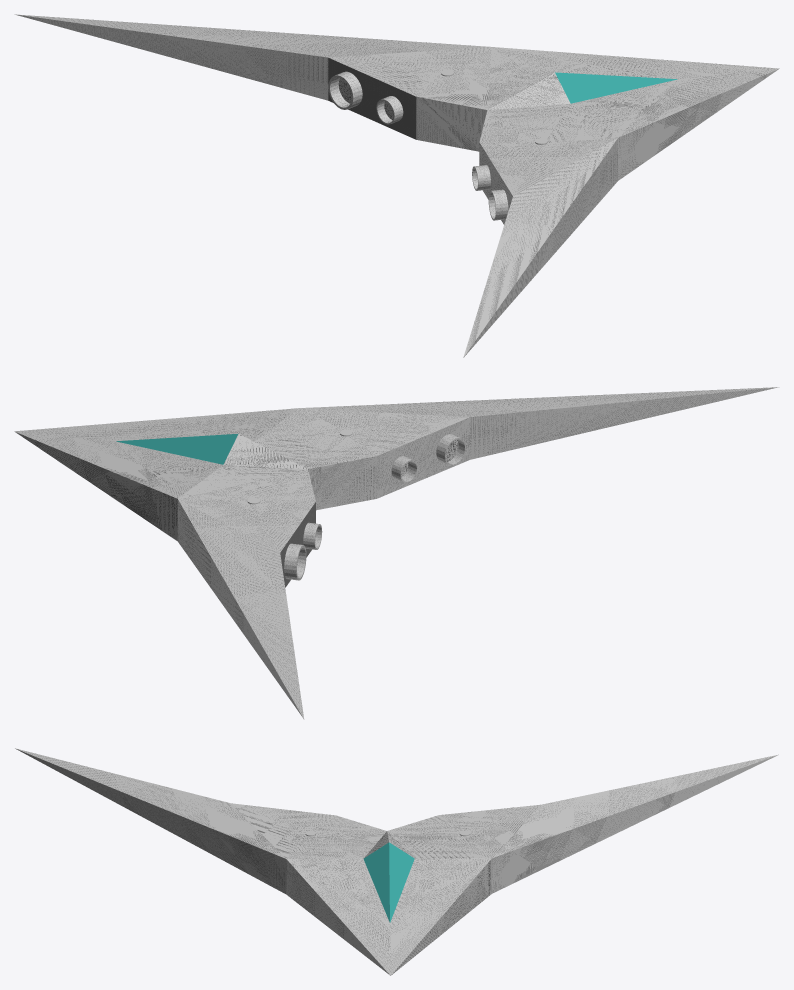
The picture shows the model from 3 angles, top to bottom: view 1: azimuth 30°, elevation 25°; view 2: azimuth 150°, elevation 25°; view 3: azimuth 270°, elevation 25°; orthographic projection. The views are drawn at different scales.
Visible parts, largest first — view 1: mesh1_mesh1-geometry, mesh2_mesh2-geometry, mesh3_mesh3-geometry; view 2: mesh1_mesh1-geometry, mesh5_mesh5-geometry, mesh2_mesh2-geometry; view 3: mesh1_mesh1-geometry.
Boxes of the visible parts, x1,y1,x2,y2 form: mesh1_mesh1-geometry: (14,14,779,357); mesh2_mesh2-geometry: (328,71,362,109); mesh3_mesh3-geometry: (376,96,403,124); mesh1_mesh1-geometry: (14,387,779,719); mesh5_mesh5-geometry: (436,434,466,466); mesh2_mesh2-geometry: (284,543,306,580); mesh1_mesh1-geometry: (15,748,778,975).
Size of the model in its own units: 0.5599 by 0.0618 by 0.8263.
